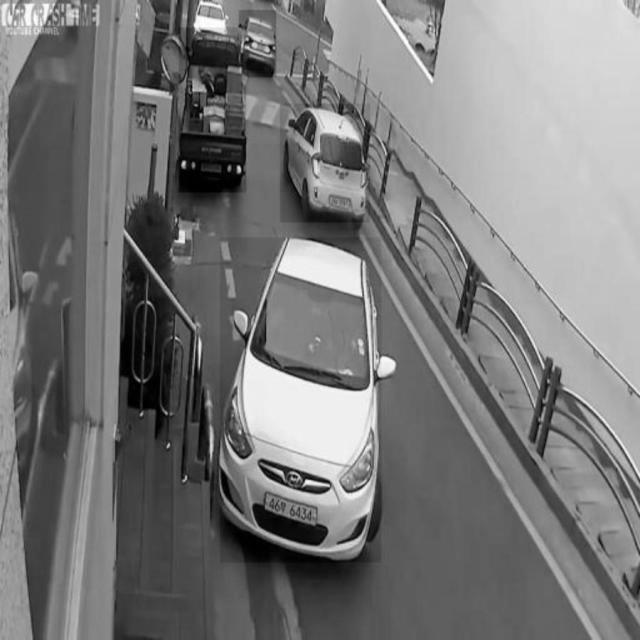vehicle: (221, 237, 381, 562), (179, 28, 246, 193), (280, 104, 370, 222), (239, 10, 276, 78)
